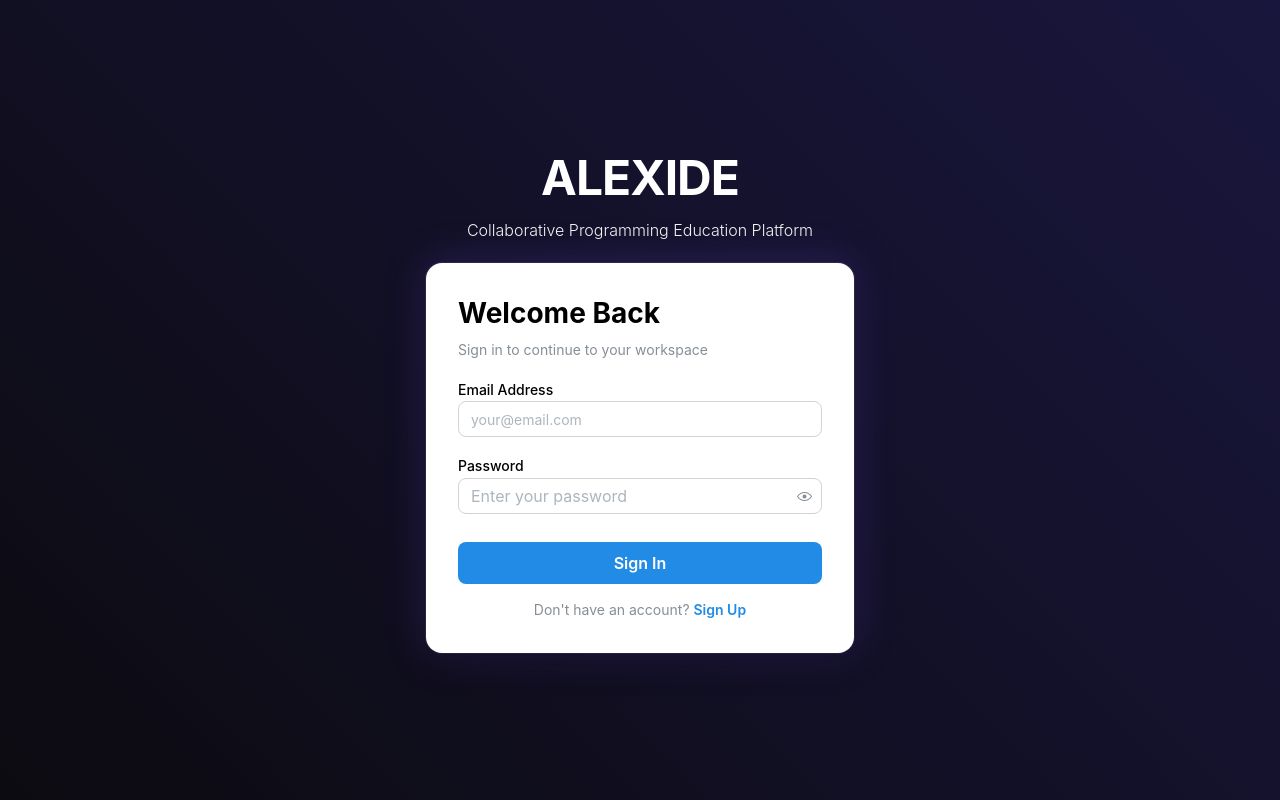
Test case: Authentication Component tests › should toggle to register mode when clicking the "Sign Up" link
Click the button "Sign Up" at (720, 610), box [694, 600, 746, 621]
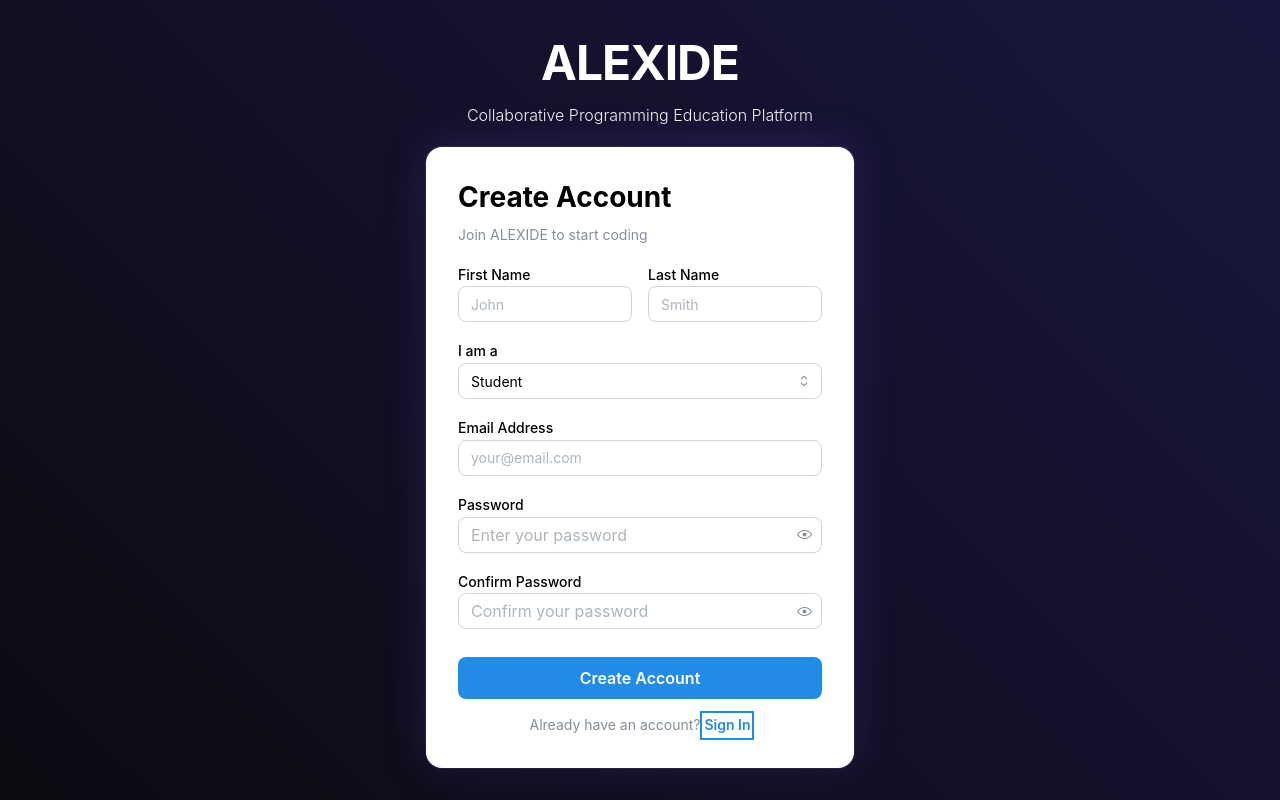
Check: the text "Join ALEXIDE to start coding" is shown, box [458, 226, 648, 243]
Check: the field with placeholder "John" is shown, box [458, 286, 632, 322]
Check: the field with placeholder "Smith" is shown, box [648, 286, 822, 322]
